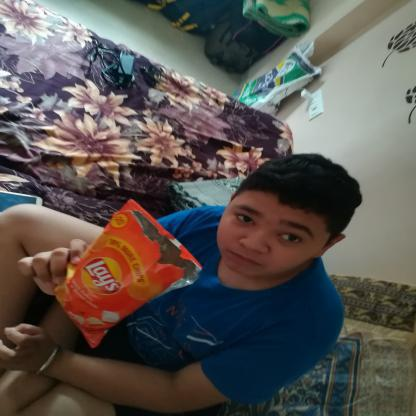hot_and_sweet: (58, 196, 192, 348)
